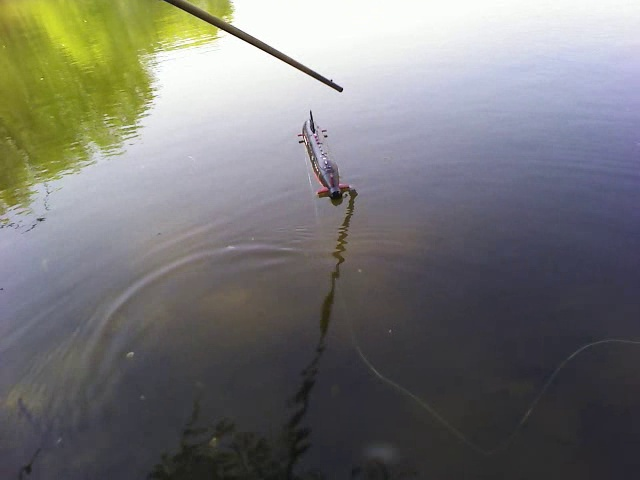submarine: (298, 108, 347, 202)
